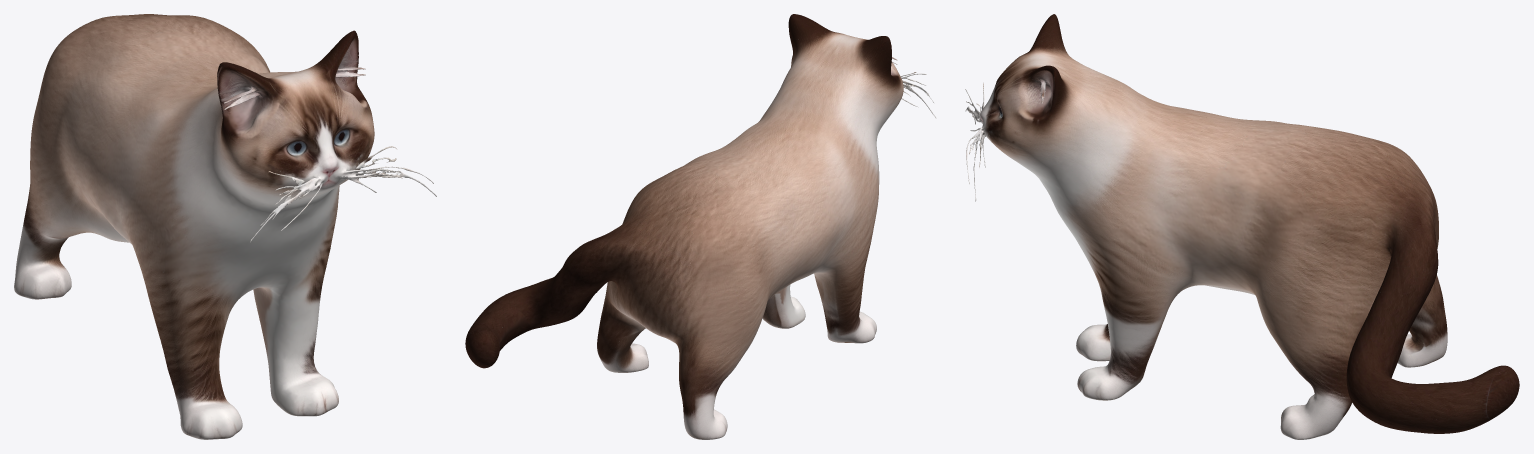
Rendered from mochi-ragdoll.glb.
3 renders of one model, left to right at view 1: azimuth 30°, elevation 25°; view 2: azimuth 150°, elevation 25°; view 3: azimuth 270°, elevation 25°, orthographic. The views are drawn at different scales.
Size of the model in its own units: 1.21 by 1.25 by 1.9.
1 material, 1 textured.
